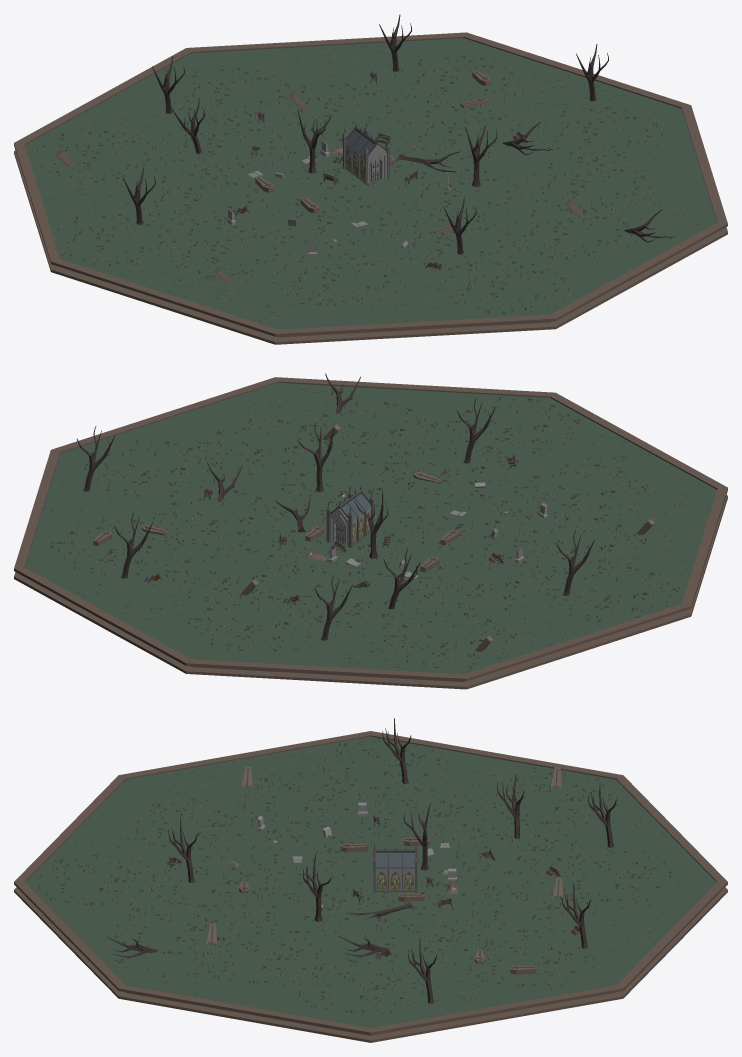
File: map-compressed.gltf
3 renders of one model, top to bottom at view 1: azimuth 30°, elevation 25°; view 2: azimuth 150°, elevation 25°; view 3: azimuth 270°, elevation 25°, orthographic. The views are drawn at different scales.
Visible parts, largest first — view 1: Cylinder, Crypt_3, Grass.008, Grass.015, Grass.017, Grass.016, Grass.011, Grass.012, Grass.013, Grass.003, Grass.014, Grass.004 (+7 smaller); view 2: Cylinder, Crypt_3, Grass.010, Grass.004, Grass.015, Grass.001, Grass.005, Grass.002, Grass.016, Grass.013, Grass.014, Grass.008 (+9 smaller); view 3: Cylinder, Crypt_3, Grass.008, Grass.017, Grass.013, Grass.003, Grass.011, Grass.010, Grass.009, Grass.015, Grass.016, Grass.001 (+8 smaller).
Boxes of the visible parts, x1=… form: Cylinder: x1=14, y1=32, x2=727, y2=344; Crypt_3: x1=341, y1=123, x2=390, y2=184; Grass.008: x1=536, y1=105, x2=667, y2=161; Grass.015: x1=274, y1=250, x2=405, y2=306; Grass.017: x1=442, y1=259, x2=574, y2=315; Grass.016: x1=505, y1=205, x2=637, y2=260; Grass.011: x1=163, y1=223, x2=295, y2=279; Grass.012: x1=48, y1=211, x2=180, y2=267; Grass.013: x1=523, y1=157, x2=654, y2=212; Grass.003: x1=159, y1=117, x2=291, y2=173; Grass.014: x1=388, y1=215, x2=519, y2=271; Grass.004: x1=34, y1=128, x2=166, y2=184; Cylinder: x1=14, y1=377, x2=727, y2=689; Crypt_3: x1=325, y1=486, x2=374, y2=547; Grass.010: x1=187, y1=594, x2=321, y2=651; Grass.004: x1=382, y1=612, x2=516, y2=668; Grass.015: x1=513, y1=462, x2=647, y2=519; Grass.001: x1=152, y1=489, x2=286, y2=546; Grass.005: x1=418, y1=553, x2=552, y2=610; Grass.002: x1=165, y1=547, x2=298, y2=603; Grass.016: x1=303, y1=401, x2=437, y2=457; Grass.013: x1=197, y1=418, x2=330, y2=475; Grass.014: x1=384, y1=439, x2=518, y2=495; Grass.008: x1=84, y1=440, x2=217, y2=496; Cylinder: x1=14, y1=731, x2=727, y2=1042; Crypt_3: x1=372, y1=843, x2=417, y2=892; Grass.008: x1=296, y1=961, x2=423, y2=1014; Grass.017: x1=36, y1=854, x2=163, y2=907; Grass.013: x1=199, y1=931, x2=326, y2=985; Grass.003: x1=454, y1=822, x2=581, y2=876; Grass.011: x1=242, y1=772, x2=368, y2=826; Grass.010: x1=552, y1=850, x2=679, y2=903; Grass.009: x1=468, y1=935, x2=594, y2=989; Grass.015: x1=134, y1=798, x2=259, y2=852; Grass.016: x1=114, y1=902, x2=240, y2=956; Grass.001: x1=361, y1=913, x2=488, y2=967.
Bounding box in the file's own units: 395 × 46.52 × 395.
Materials: 5 (1 with a texture image).
